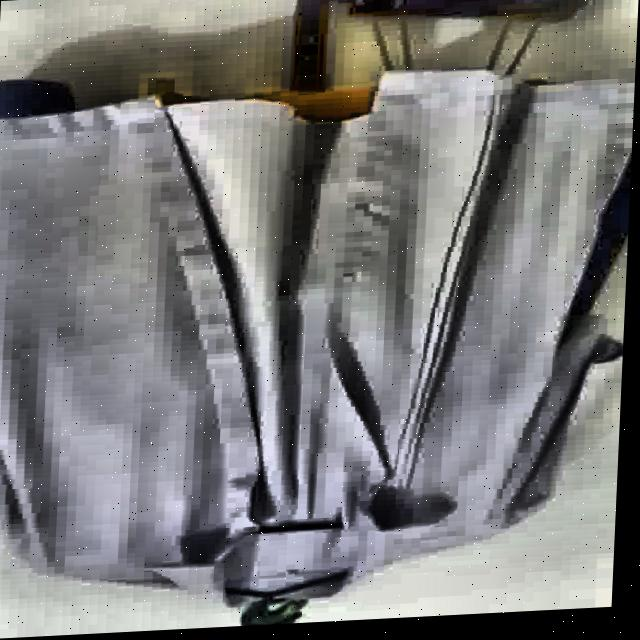clothes: (0, 57, 636, 620)
